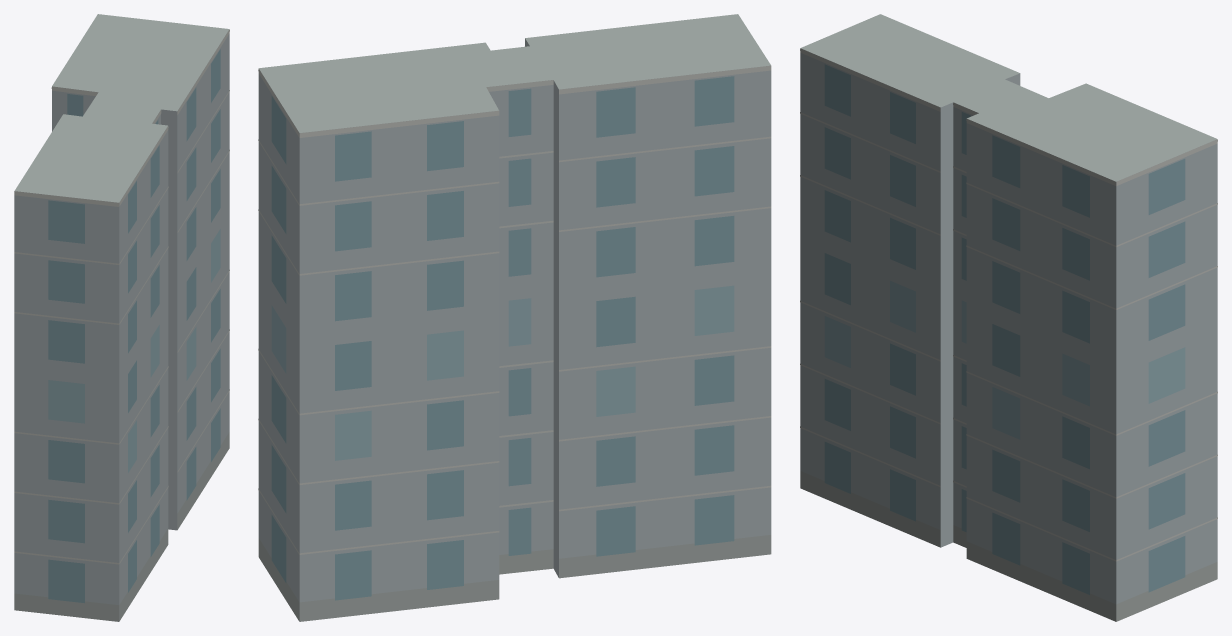
Rendered from survey-upis-32568340.glb.
3 renders of one model, left to right at view 1: azimuth 30°, elevation 25°; view 2: azimuth 150°, elevation 25°; view 3: azimuth 270°, elevation 25°, orthographic. The views are drawn at different scales.
Parts seen in each view (by area): view 1: survey-upis-32568340.tmp; view 2: survey-upis-32568340.tmp; view 3: survey-upis-32568340.tmp.
Part boxes in pixels (bbox=[...]): survey-upis-32568340.tmp: bbox=[14, 14, 229, 621]; survey-upis-32568340.tmp: bbox=[258, 14, 771, 621]; survey-upis-32568340.tmp: bbox=[800, 14, 1217, 621].
Size of the model in its own units: 19.56 by 23.9 by 20.56.
